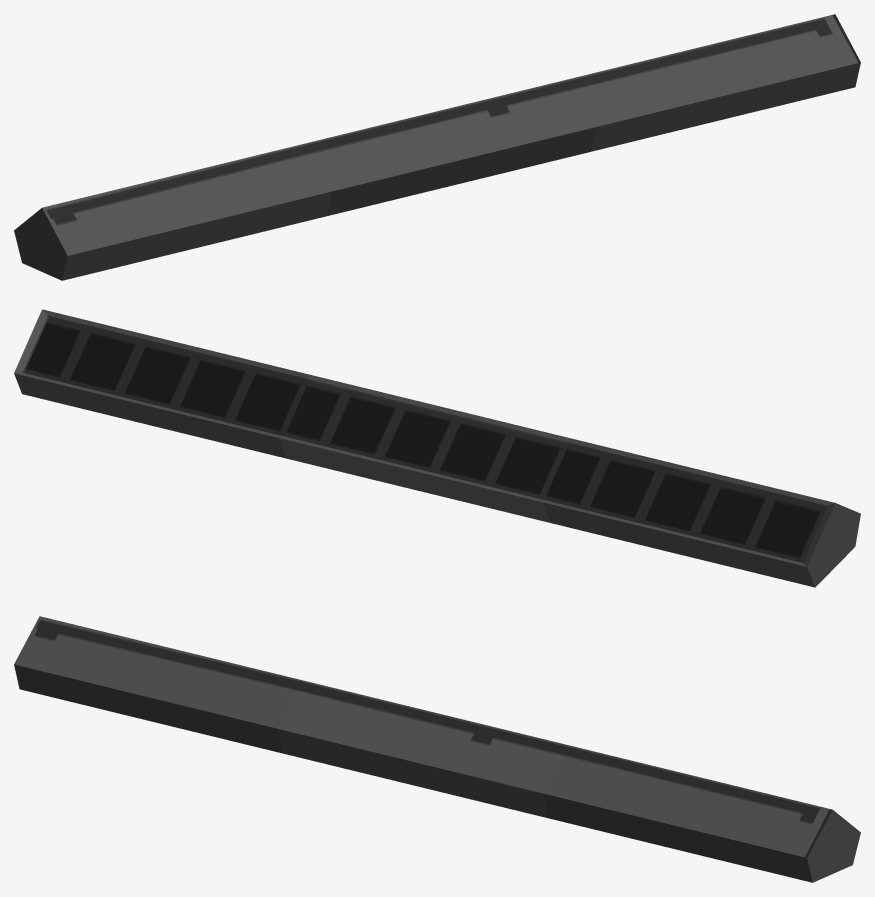
The model's file is Long_Ground_Speaker_1.fbx.
The picture shows the model from 3 angles, top to bottom: view 1: azimuth 30°, elevation 25°; view 2: azimuth 150°, elevation 25°; view 3: azimuth 330°, elevation 25°; orthographic projection.
Parts seen in each view (by area): view 1: Long_Ground_Speaker_1; view 2: Long_Ground_Speaker_1; view 3: Long_Ground_Speaker_1.
Part boxes in pixels (x1,y1,x2,y2): Long_Ground_Speaker_1: (14,14,860,280); Long_Ground_Speaker_1: (14,309,860,587); Long_Ground_Speaker_1: (14,616,860,882).
Bounding box in the file's own units: 13.87 × 1.17 × 1.63.
